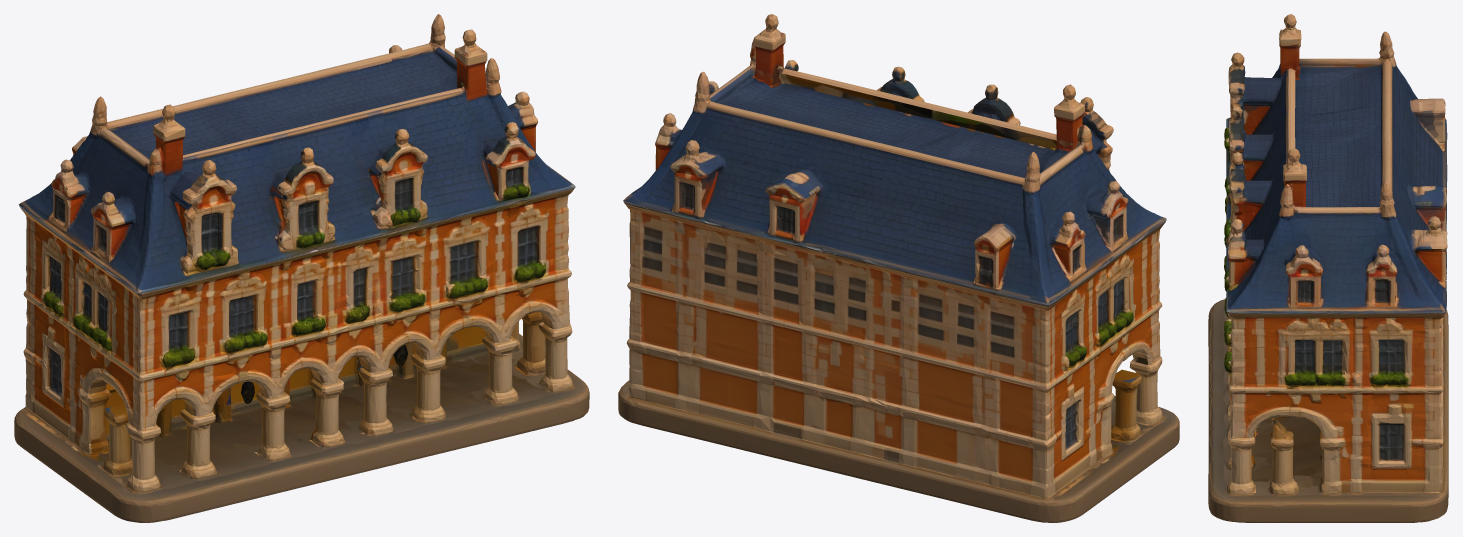
Rendered from lille-bourse.glb.
The picture shows the model from 3 angles, left to right: view 1: azimuth 30°, elevation 25°; view 2: azimuth 150°, elevation 25°; view 3: azimuth 270°, elevation 25°; orthographic projection. The views are drawn at different scales.
Visible parts, largest first — view 1: textured_mesh.obj; view 2: textured_mesh.obj; view 3: textured_mesh.obj.
Part boxes in pixels (box(x1,y1,x2,y2)): textured_mesh.obj: box(14, 14, 589, 522); textured_mesh.obj: box(618, 14, 1179, 522); textured_mesh.obj: box(1208, 14, 1448, 522).
Size of the model in its own units: 1.99 by 1.5 by 0.9698.
Materials: 1 (1 with a texture image).
